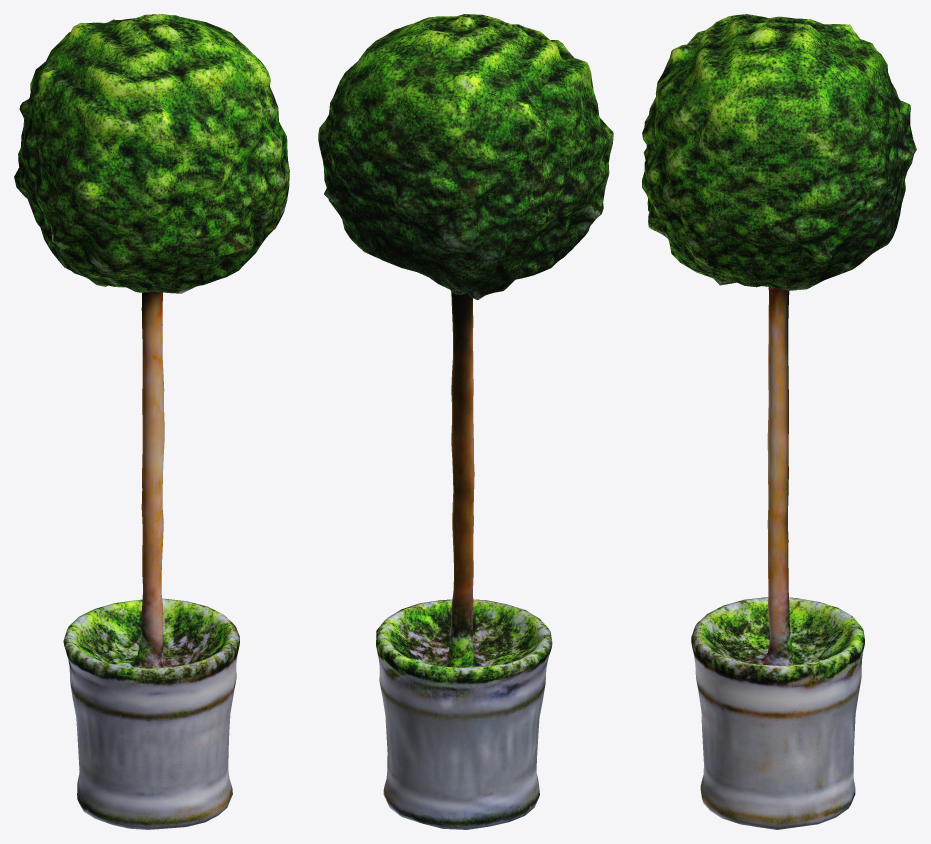
Rendered from eb8a81df1eca_480fa948bc3e_model.glb.
The picture shows the model from 3 angles, left to right: view 1: azimuth 30°, elevation 25°; view 2: azimuth 150°, elevation 25°; view 3: azimuth 270°, elevation 25°; orthographic projection.
Parts seen in each view (by area): view 1: mesh; view 2: mesh; view 3: mesh.
Part boxes in pixels (bbox=[...]): mesh: bbox=[14, 14, 289, 829]; mesh: bbox=[318, 14, 613, 829]; mesh: bbox=[642, 14, 916, 829].
Size of the model in its own units: 0.3233 by 0.9966 by 0.321.
1 material, 1 textured.
